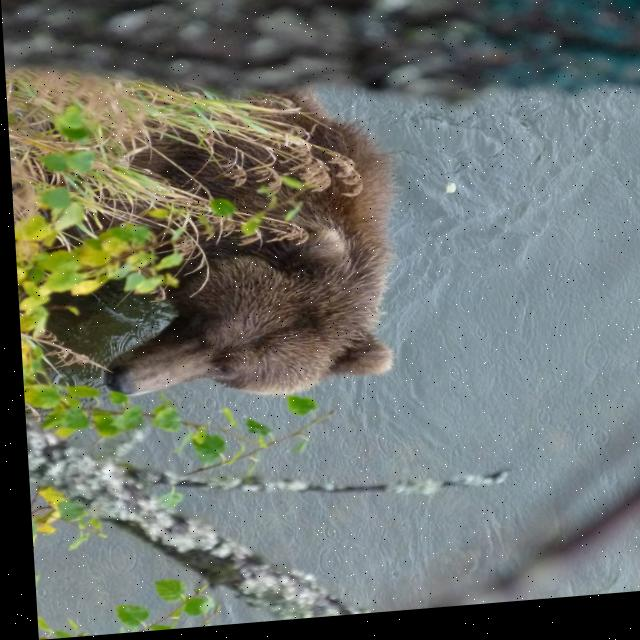bear face: (85, 94, 398, 407)
